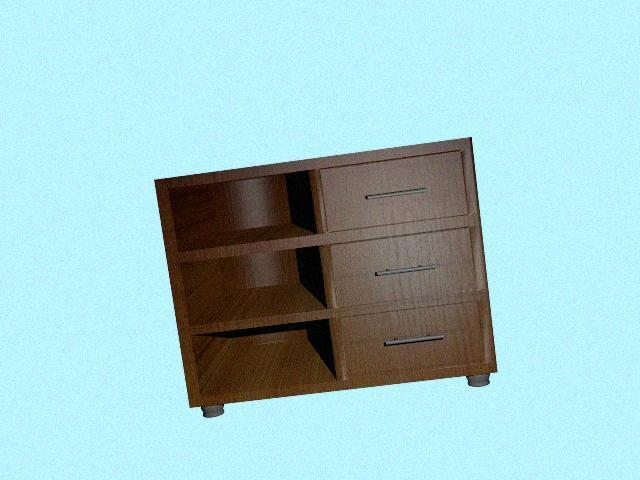cabinet_door: (322, 160, 466, 225), (332, 236, 473, 299), (342, 309, 482, 372)
handle: (359, 178, 420, 205), (371, 257, 426, 281), (380, 331, 439, 351)
